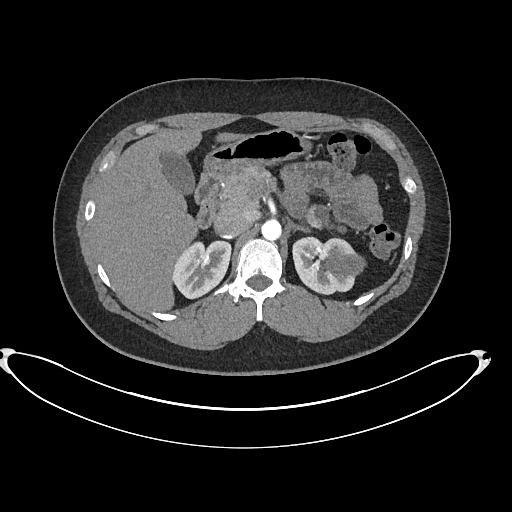Lesion: (332, 251, 367, 277)
